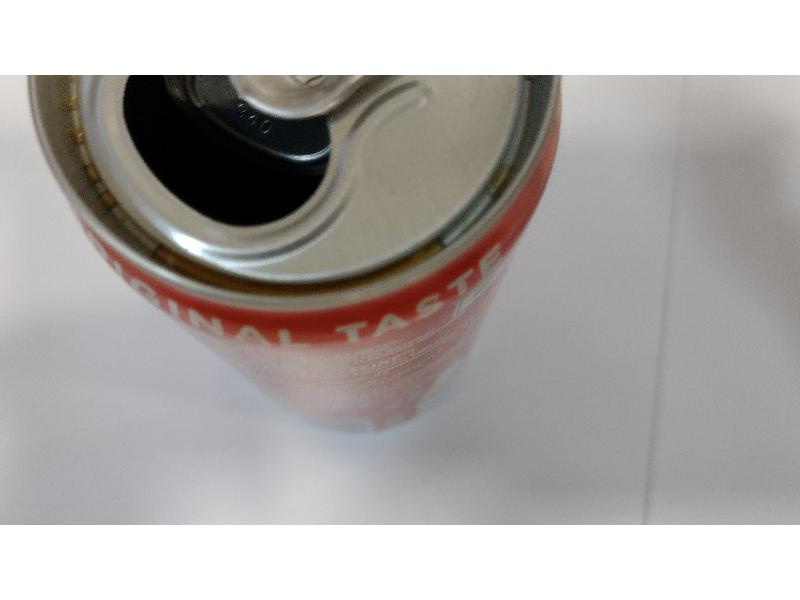can: (23, 74, 566, 378)
